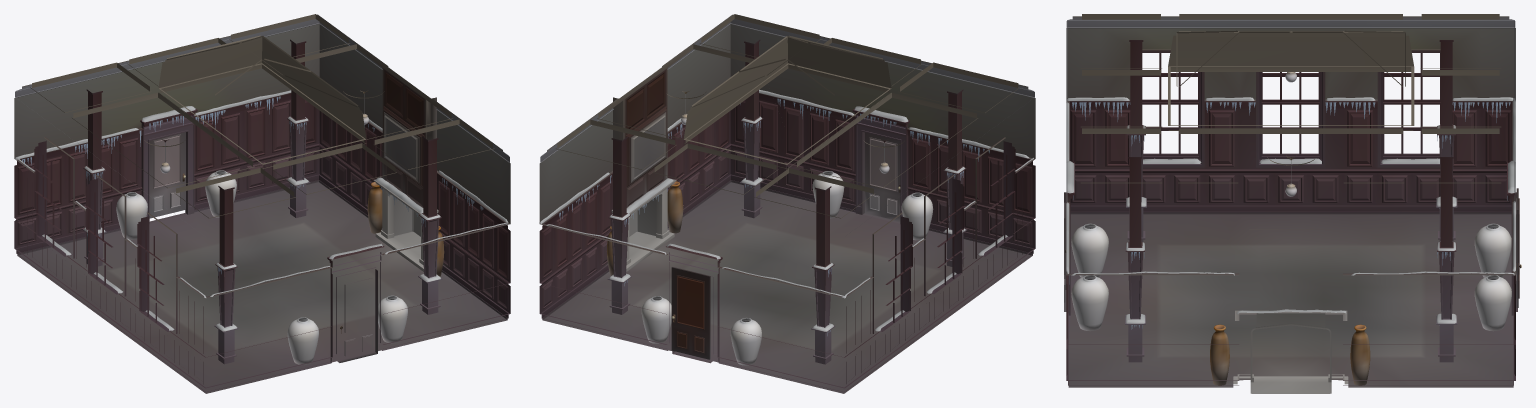
Rendered from games_room.glb.
3 renders of one model, left to right at view 1: azimuth 30°, elevation 25°; view 2: azimuth 150°, elevation 25°; view 3: azimuth 270°, elevation 25°, orthographic. The views are drawn at different scales.
Parts seen in each view (by area): view 1: Box001, chessPlane, Object001Door; view 2: Box001, chessPlane, Object001Door; view 3: Box001, chessPlane, Object001Door.
Boxes of the visible parts, left/top/right/bottom form: Box001: left=14, top=14, right=510, bottom=393; chessPlane: left=106, top=222, right=418, bottom=351; Object001Door: left=149, top=132, right=185, bottom=218; Box001: left=539, top=14, right=1035, bottom=393; chessPlane: left=631, top=222, right=943, bottom=352; Object001Door: left=671, top=267, right=710, bottom=359; Box001: left=1064, top=14, right=1517, bottom=393; chessPlane: left=1156, top=244, right=1426, bottom=357; Object001Door: left=1516, top=188, right=1521, bottom=307.
Size of the model in its own units: 1.05 by 0.6902 by 1.06.
